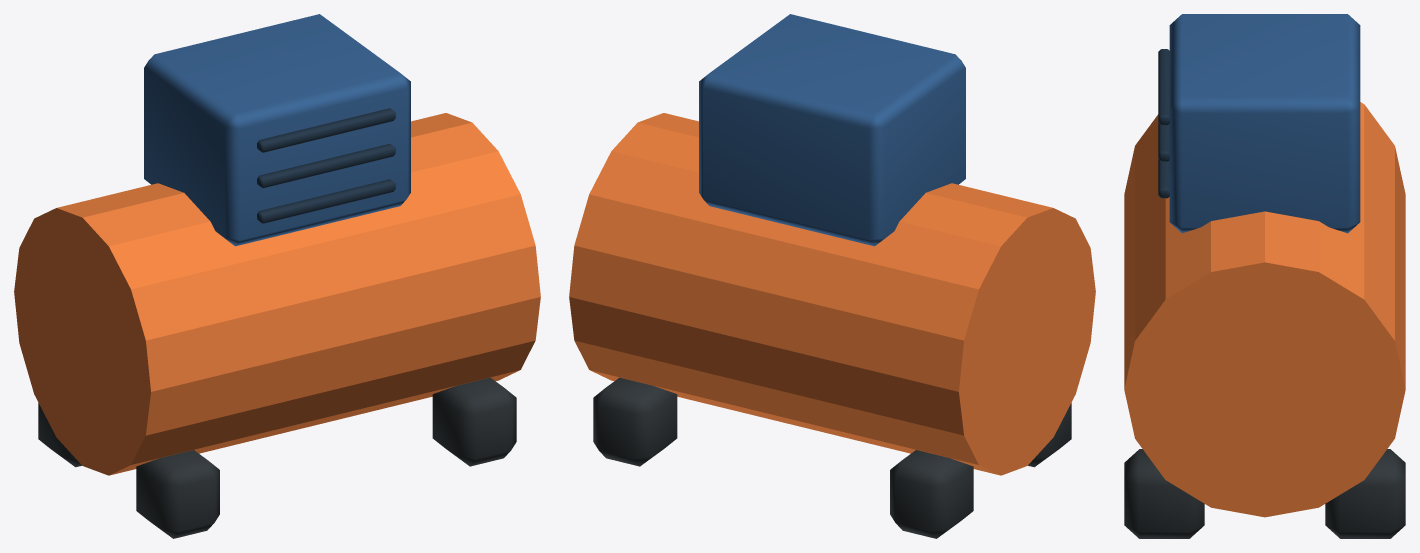
Rendered from Air_Compressor.glb.
The picture shows the model from 3 angles, left to right: view 1: azimuth 30°, elevation 25°; view 2: azimuth 150°, elevation 25°; view 3: azimuth 270°, elevation 25°; orthographic projection. The views are drawn at different scales.
Visible parts, largest first — view 1: Air_Compressor; view 2: Air_Compressor; view 3: Air_Compressor.
Boxes of the visible parts, bbox=[...] form: Air_Compressor: bbox=[14, 14, 540, 538]; Air_Compressor: bbox=[569, 14, 1095, 538]; Air_Compressor: bbox=[1124, 14, 1405, 538].
Bounding box in the file's own units: 0.92 × 0.88 × 0.56.
